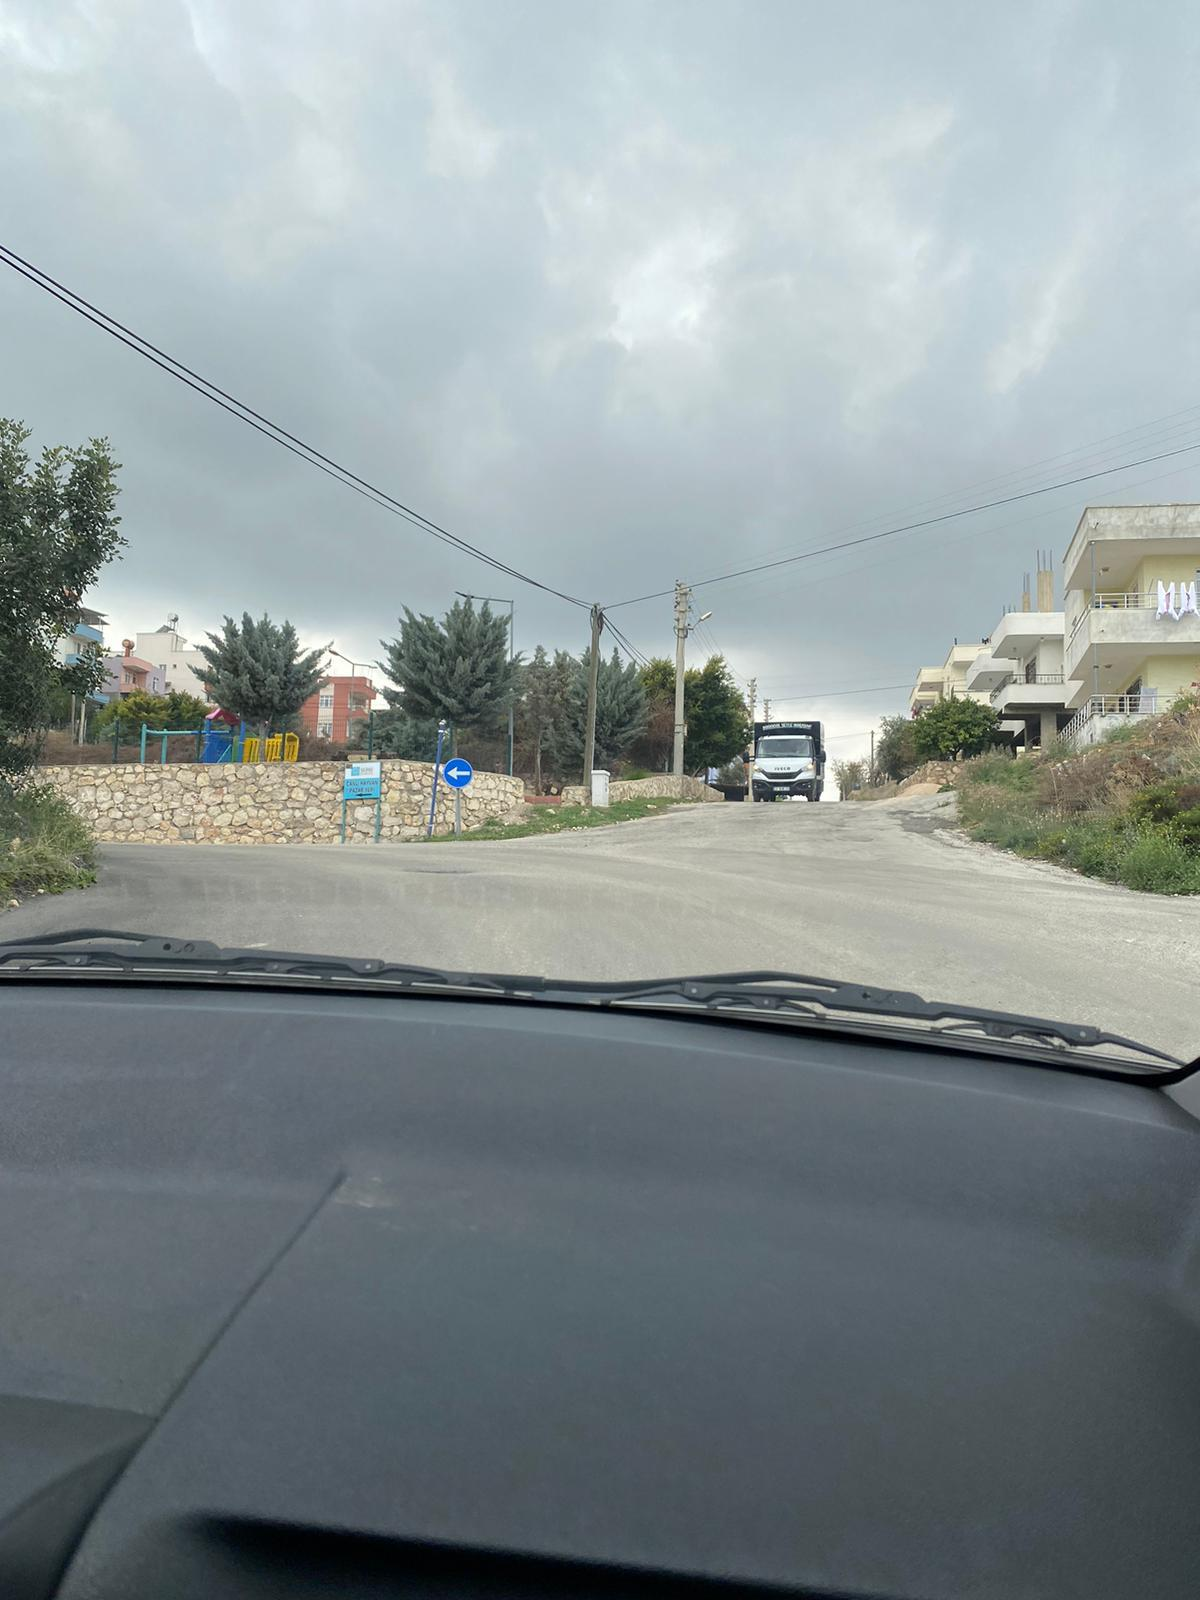turnleft: (444, 758, 473, 787)
